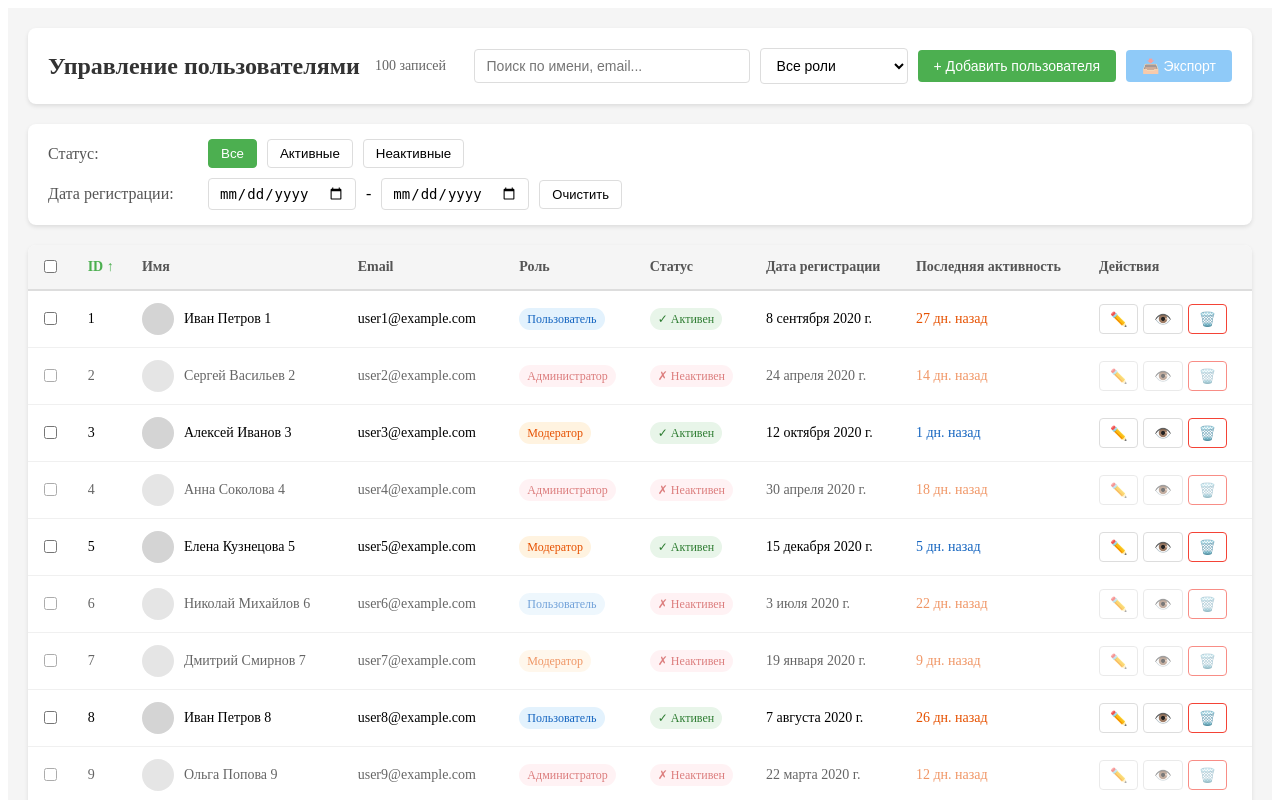
UserTable › Сортировка › должен сортировать по имени при клике на заголовок
Click the column heading with class "sortable" showing "Имя": (156, 266) [130, 245, 346, 290]
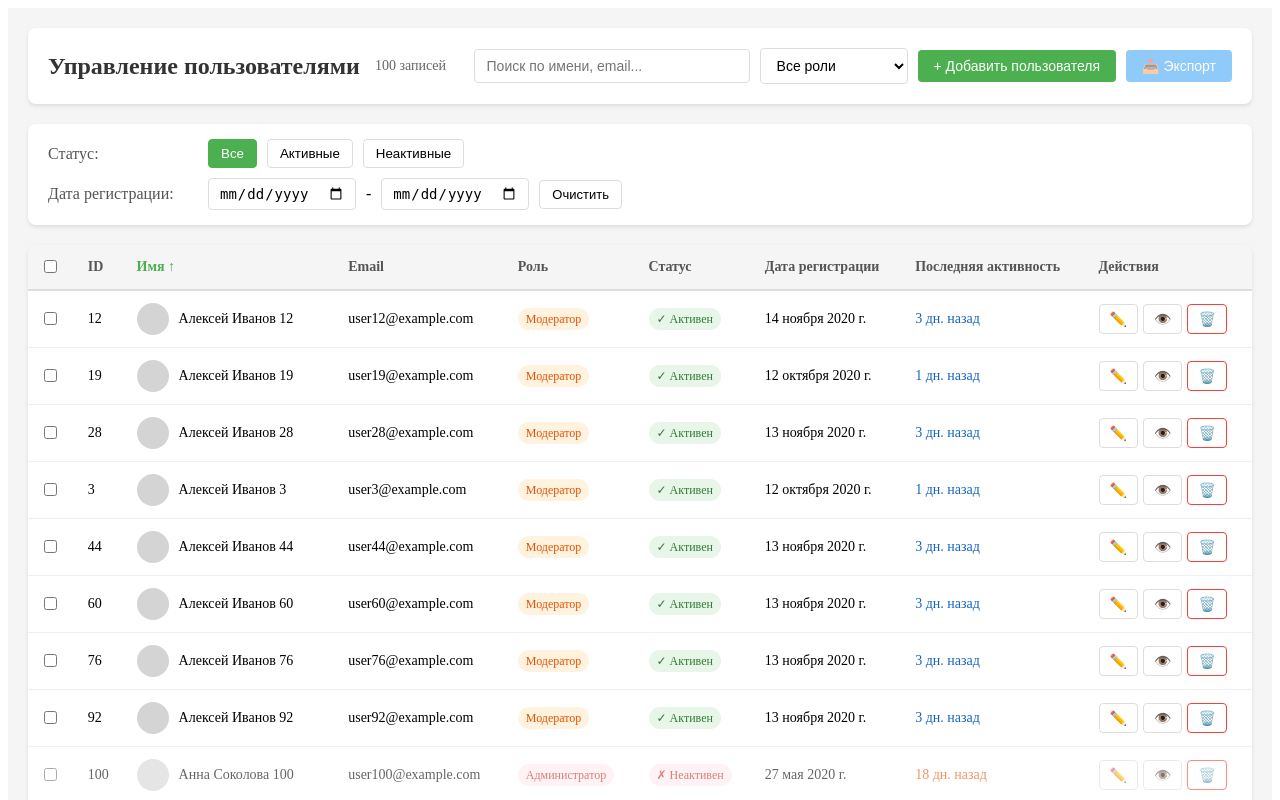
Now the column heading with class "sortable" reads "Имя ↑", box [168, 259, 175, 274]
